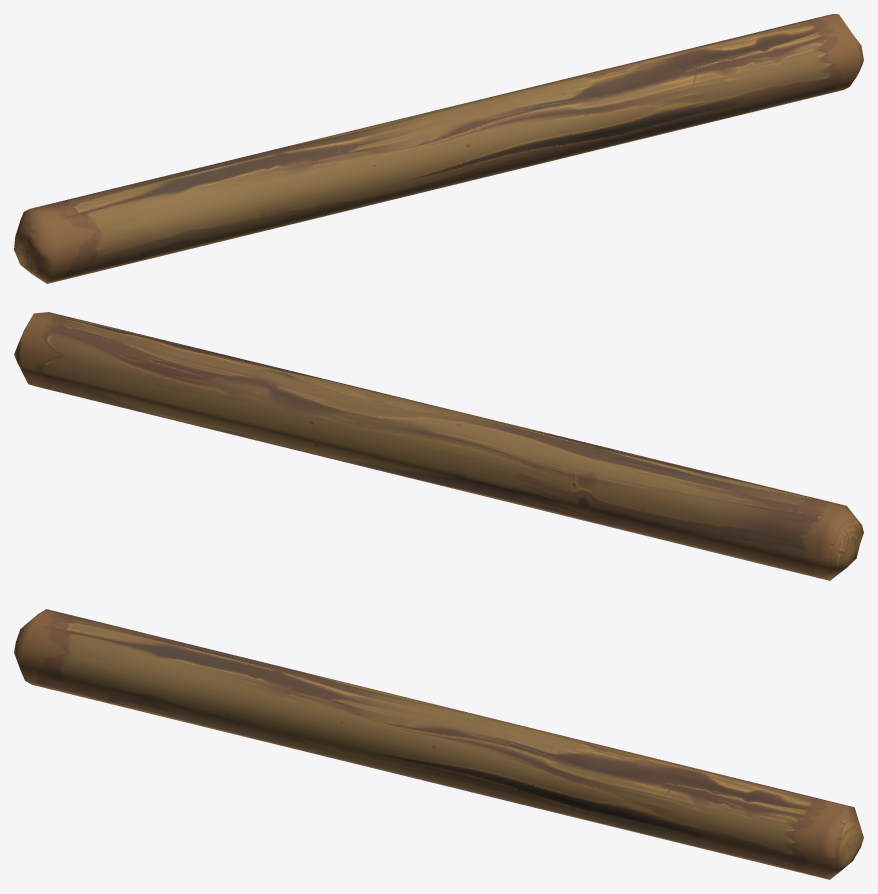
The model's file is SM_MOD_basic_log_town_03.fbx.
3 views of the same model, one above another, from view 1: azimuth 30°, elevation 25°; view 2: azimuth 150°, elevation 25°; view 3: azimuth 330°, elevation 25° (orthographic).
Visible parts, largest first — view 1: SM_MOD_basic_log_town_03_LOD0; view 2: SM_MOD_basic_log_town_03_LOD0; view 3: SM_MOD_basic_log_town_03_LOD0.
Part boxes in pixels (<box>): SM_MOD_basic_log_town_03_LOD0: <box>14,14,863,283</box>; SM_MOD_basic_log_town_03_LOD0: <box>14,312,863,580</box>; SM_MOD_basic_log_town_03_LOD0: <box>14,609,863,879</box>.
Size of what is drawn, in the model's own units: 300 by 23.72 by 24.58.
